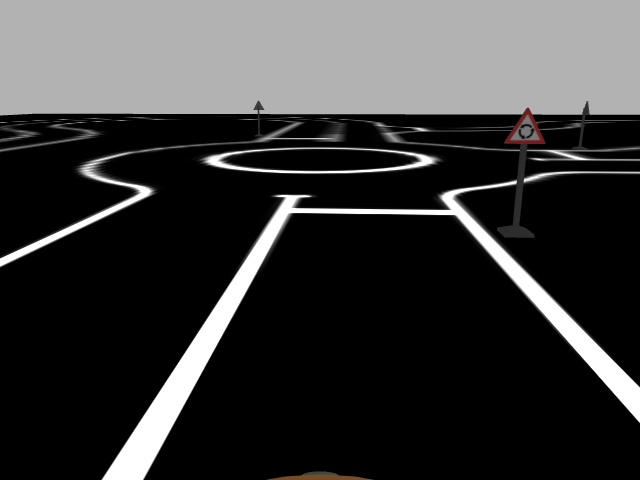roundabout: (502, 107, 547, 143)
